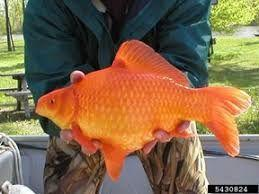Gold Fish: (32, 40, 254, 181)
